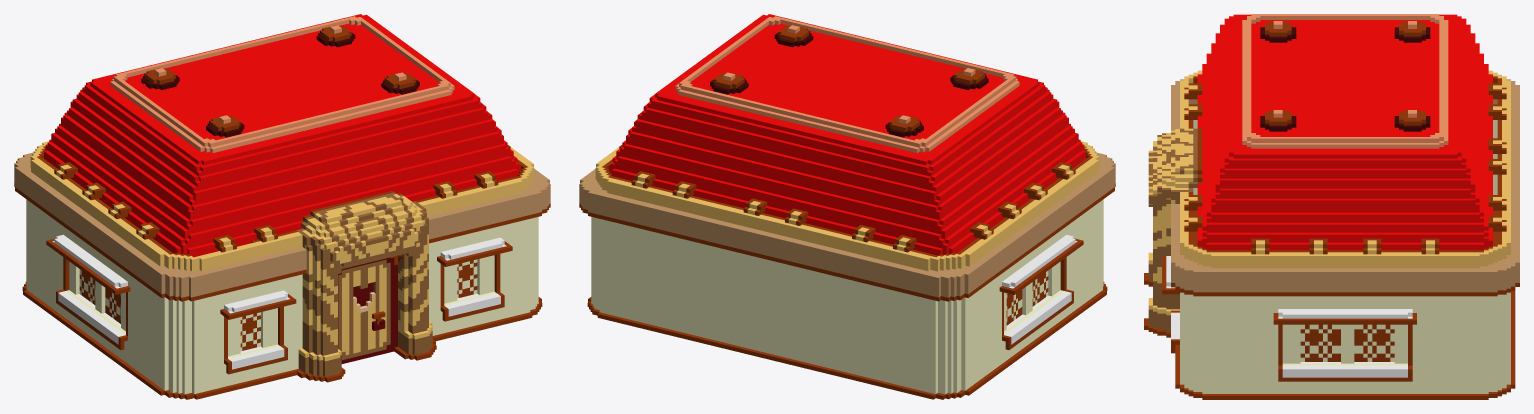
File: house.glb
3 views of the same model, side by side, from view 1: azimuth 30°, elevation 25°; view 2: azimuth 150°, elevation 25°; view 3: azimuth 270°, elevation 25° (orthographic). The views are drawn at different scales.
Visible parts, largest first — view 1: Object_2; view 2: Object_2; view 3: Object_2.
Part boxes in pixels (x1,y1,x2,y2): Object_2: [14, 14, 550, 399]; Object_2: [579, 14, 1115, 399]; Object_2: [1144, 14, 1519, 399].
Bounding box in the file's own units: 108 × 58 × 84.
1 material, 1 textured.
